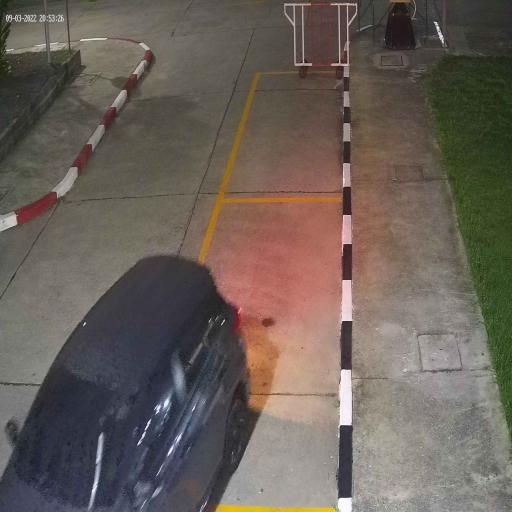motorcycle: (0, 257, 248, 512)
